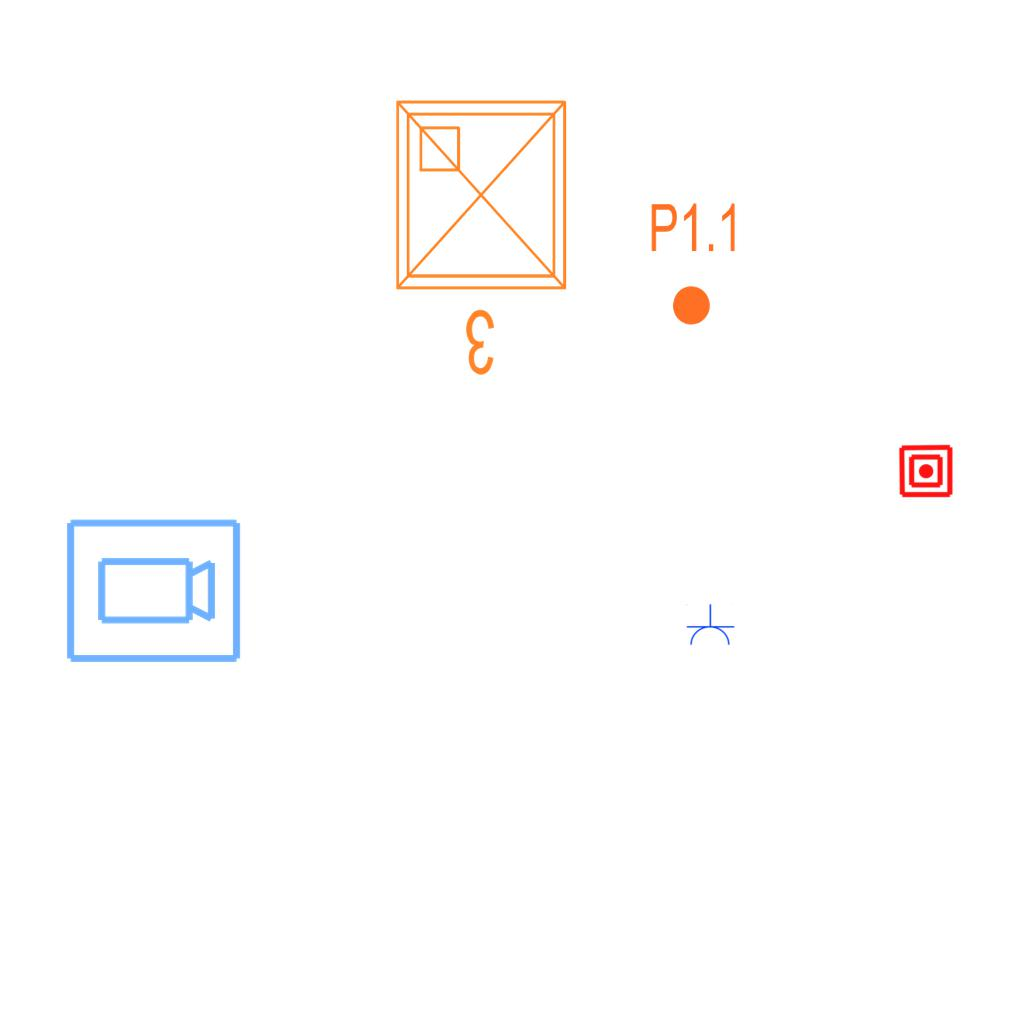Downlight_LED_Einbauleuchten_Flur: (648, 200, 741, 328)
Einbaudownlights_LED_Konferenzraeume: (381, 86, 589, 386)
KFO_Kamera_mit_Festobjektiv: (62, 515, 244, 669)
NAM-Nichtautomatischer_Melder: (898, 443, 954, 499)
Schukosteckdose_einfach: (685, 604, 735, 647)
